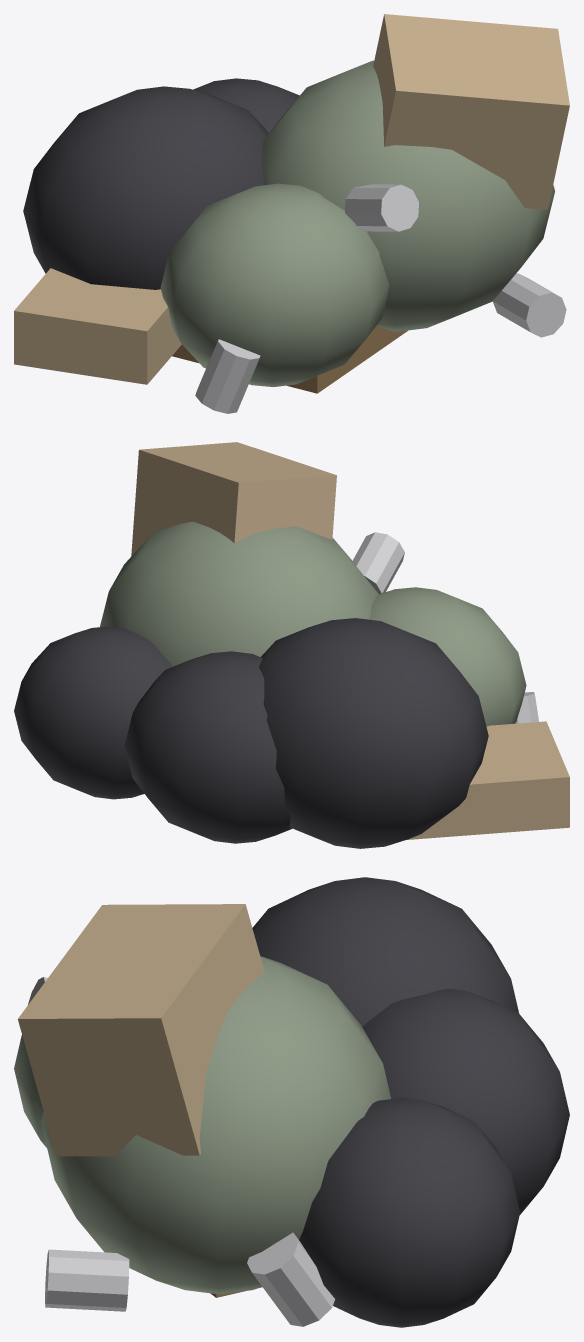
The model's file is dm_rubbish_pile.glb.
3 renders of one model, top to bottom at view 1: azimuth 30°, elevation 25°; view 2: azimuth 150°, elevation 25°; view 3: azimuth 270°, elevation 25°, orthographic. The views are drawn at different scales.
Parts seen in each view (by area): view 1: RubbishPile; view 2: RubbishPile; view 3: RubbishPile.
Part boxes in pixels (box(x1,y1,x2,y2)): RubbishPile: box(14, 14, 569, 413); RubbishPile: box(14, 442, 569, 848); RubbishPile: box(14, 877, 569, 1327).
Size of the model in its own units: 1.02 by 0.5538 by 0.76.
